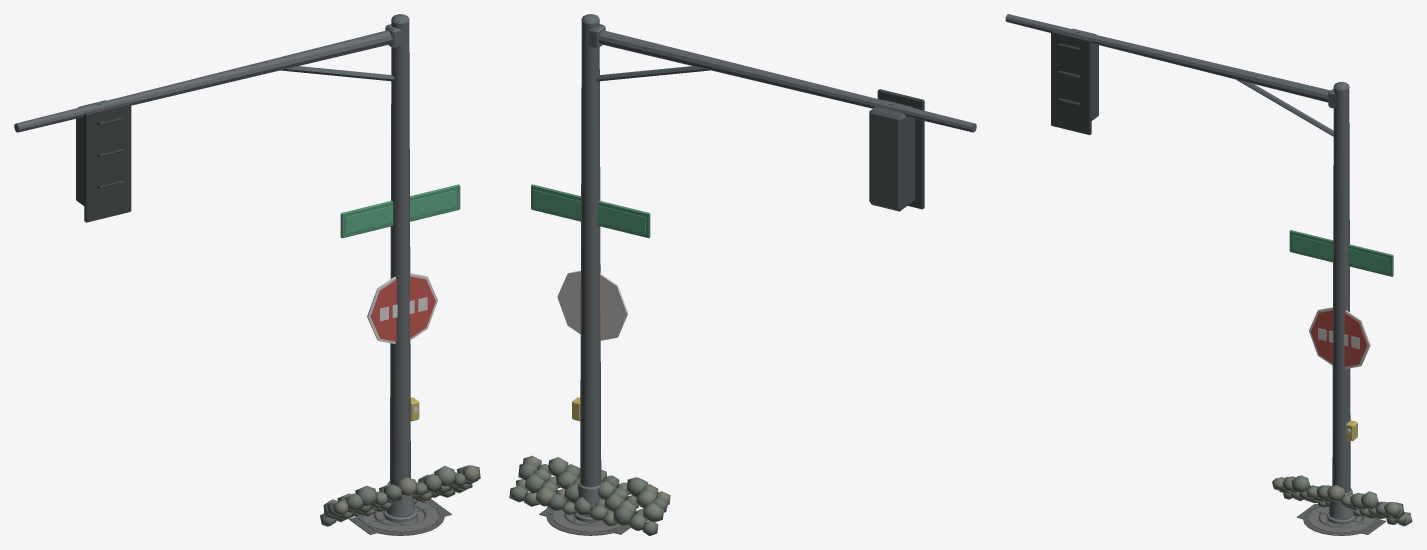
File: wave3_sinal.glb
3 views of the same model, side by side, from view 1: azimuth 30°, elevation 25°; view 2: azimuth 150°, elevation 25°; view 3: azimuth 330°, elevation 25° (orthographic). The views are drawn at different scales.
Visible parts, largest first — view 1: signal_pole, hedge, stop_sign, manhole; view 2: signal_pole, hedge, stop_sign, manhole; view 3: signal_pole, hedge, stop_sign, manhole.
Boxes of the visible parts, x1=… form: signal_pole: x1=14, y1=14, x2=460, y2=522; hedge: x1=320, y1=465, x2=480, y2=526; stop_sign: x1=367, y1=273, x2=437, y2=343; manhole: x1=356, y1=500, x2=444, y2=535; signal_pole: x1=531, y1=14, x2=976, y2=522; hedge: x1=509, y1=455, x2=670, y2=535; stop_sign: x1=557, y1=270, x2=628, y2=340; manhole: x1=546, y1=499, x2=628, y2=535; signal_pole: x1=1005, y1=14, x2=1393, y2=524; hedge: x1=1272, y1=475, x2=1412, y2=526; stop_sign: x1=1309, y1=307, x2=1370, y2=368; manhole: x1=1303, y1=507, x2=1379, y2=535.
Size of the model in its own units: 5.01 by 5.25 by 0.84.
